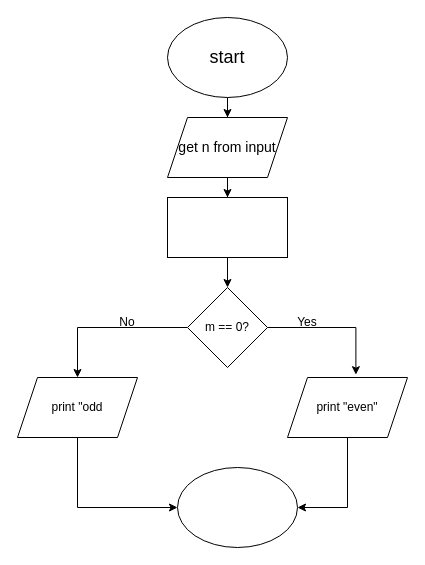
Image size: 425x565. Some labels were removed from this diagram. The shapes that lost their labels are listed below. From the top down, each one's box as (x1, y1, x2, y2) in pixels, then its label:
(166, 196, 288, 258): m = n % 2
(176, 466, 298, 548): end
